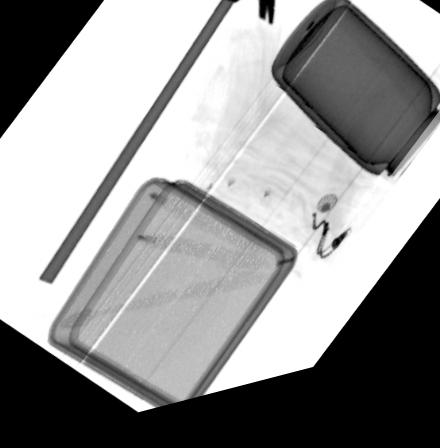Hammer: (34, 0, 276, 286)
